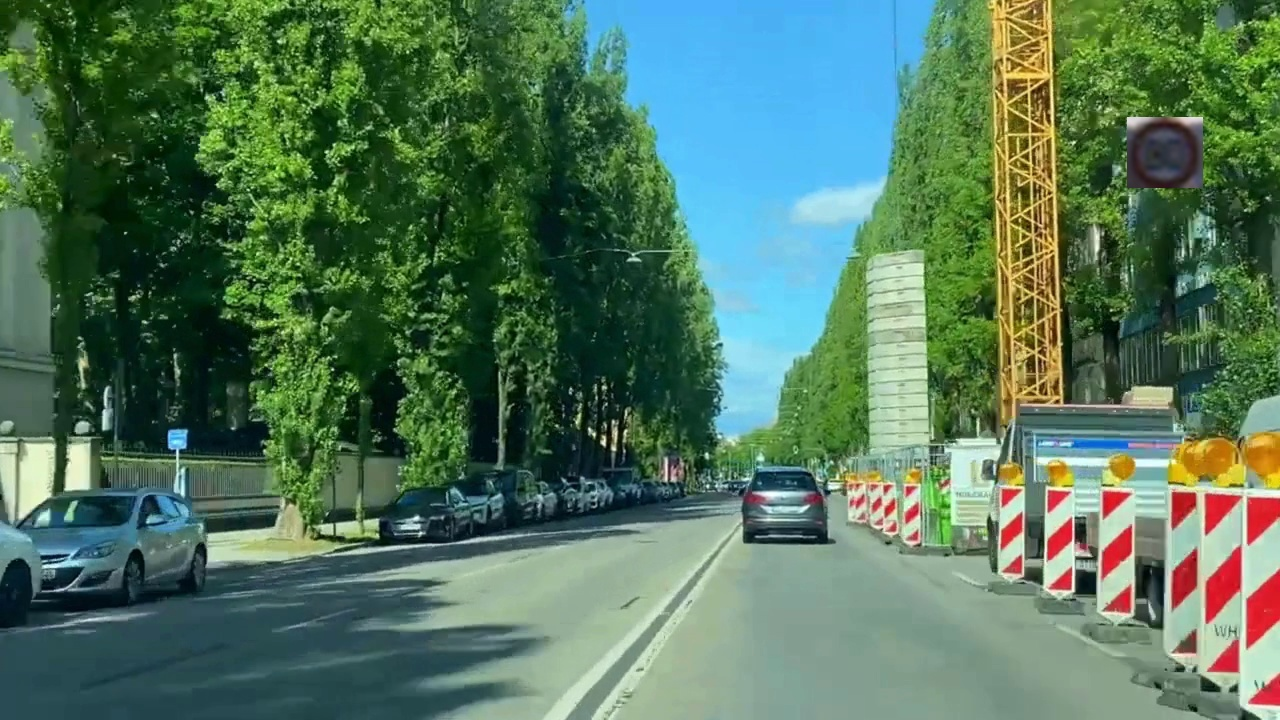Speed 80: (1127, 117, 1203, 188)
